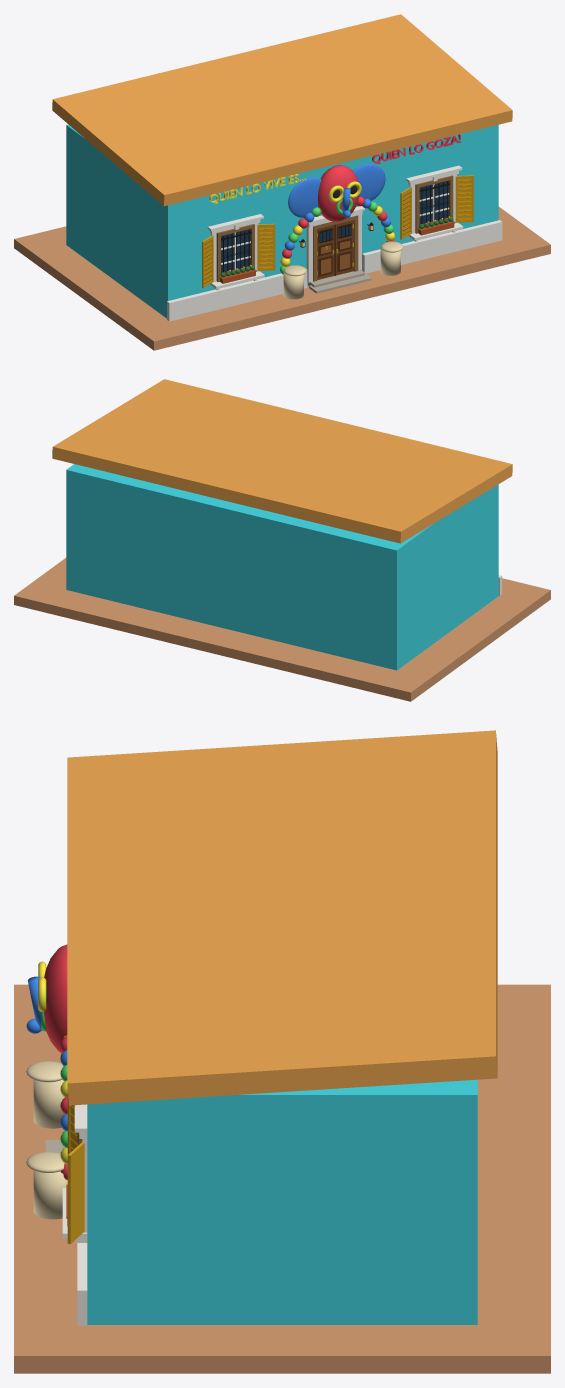
The model's file is casa-carnavalera-marimonda.glb.
The picture shows the model from 3 angles, top to bottom: view 1: azimuth 30°, elevation 25°; view 2: azimuth 150°, elevation 25°; view 3: azimuth 270°, elevation 25°; orthographic projection. The views are drawn at different scales.
Visible parts, largest first — view 1: Techo, Fachada_Principal, Piso_Patio, Zocalo_Izq, Zocalo_Der, Ventana_Der_Pared_Blanca, Ventana_Der_Postigo_Mostaza, Ventana_Izq_Postigo_Mostaza, Ventana_Izq_Pared_Blanca, Marimonda_Cabeza, Marimonda_Oreja_Izq, Ventana_Izq_Vidrio (+18 smaller); view 2: Fachada_Principal, Techo, Piso_Patio; view 3: Techo, Fachada_Principal, Piso_Patio, Ventana_Der_Postigo_Mostaza, Marimonda_Cabeza, Tambor_Der, Tambor_Izq, Ventana_Der_Pared_Blanca, Zocalo_Der.
Part boxes in pixels (x1=…): Techo: x1=52, y1=14, x2=512, y2=206; Fachada_Principal: x1=66, y1=124, x2=498, y2=318; Piso_Patio: x1=14, y1=207, x2=550, y2=350; Zocalo_Izq: x1=167, y1=268, x2=307, y2=321; Zocalo_Der: x1=362, y1=220, x2=502, y2=273; Ventana_Der_Pared_Blanca: x1=406, y1=165, x2=463, y2=241; Ventana_Der_Postigo_Mostaza: x1=400, y1=175, x2=473, y2=239; Ventana_Izq_Postigo_Mostaza: x1=202, y1=223, x2=275, y2=287; Ventana_Izq_Pared_Blanca: x1=207, y1=214, x2=264, y2=290; Marimonda_Cabeza: x1=318, y1=165, x2=359, y2=221; Marimonda_Oreja_Izq: x1=288, y1=177, x2=321, y2=217; Ventana_Izq_Vidrio: x1=221, y1=229, x2=250, y2=272; Fachada_Principal: x1=66, y1=464, x2=498, y2=670; Techo: x1=52, y1=379, x2=512, y2=543; Piso_Patio: x1=14, y1=558, x2=550, y2=701; Techo: x1=67, y1=730, x2=497, y2=1105; Fachada_Principal: x1=87, y1=1079, x2=477, y2=1324; Piso_Patio: x1=14, y1=984, x2=550, y2=1373; Ventana_Der_Postigo_Mostaza: x1=67, y1=1090, x2=84, y2=1244; Marimonda_Cabeza: x1=43, y1=944, x2=67, y2=1053; Tambor_Der: x1=33, y1=1170, x2=67, y2=1219; Tambor_Izq: x1=33, y1=1079, x2=64, y2=1128; Ventana_Der_Pared_Blanca: x1=62, y1=1104, x2=87, y2=1242; Zocalo_Der: x1=77, y1=1243, x2=87, y2=1325.
Bounding box in the file's own units: 18 × 6.66 × 11.
